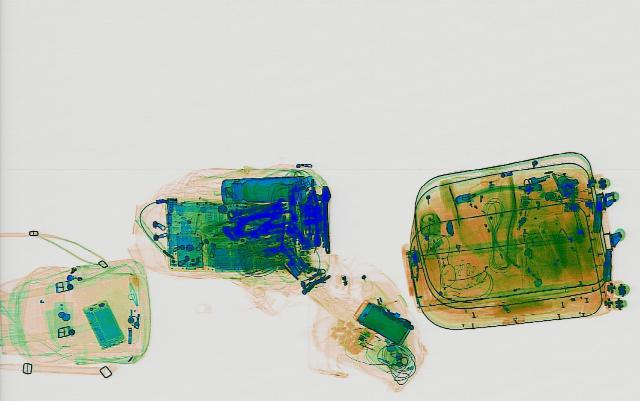Wrench: (222, 196, 290, 221), (315, 185, 333, 252)
